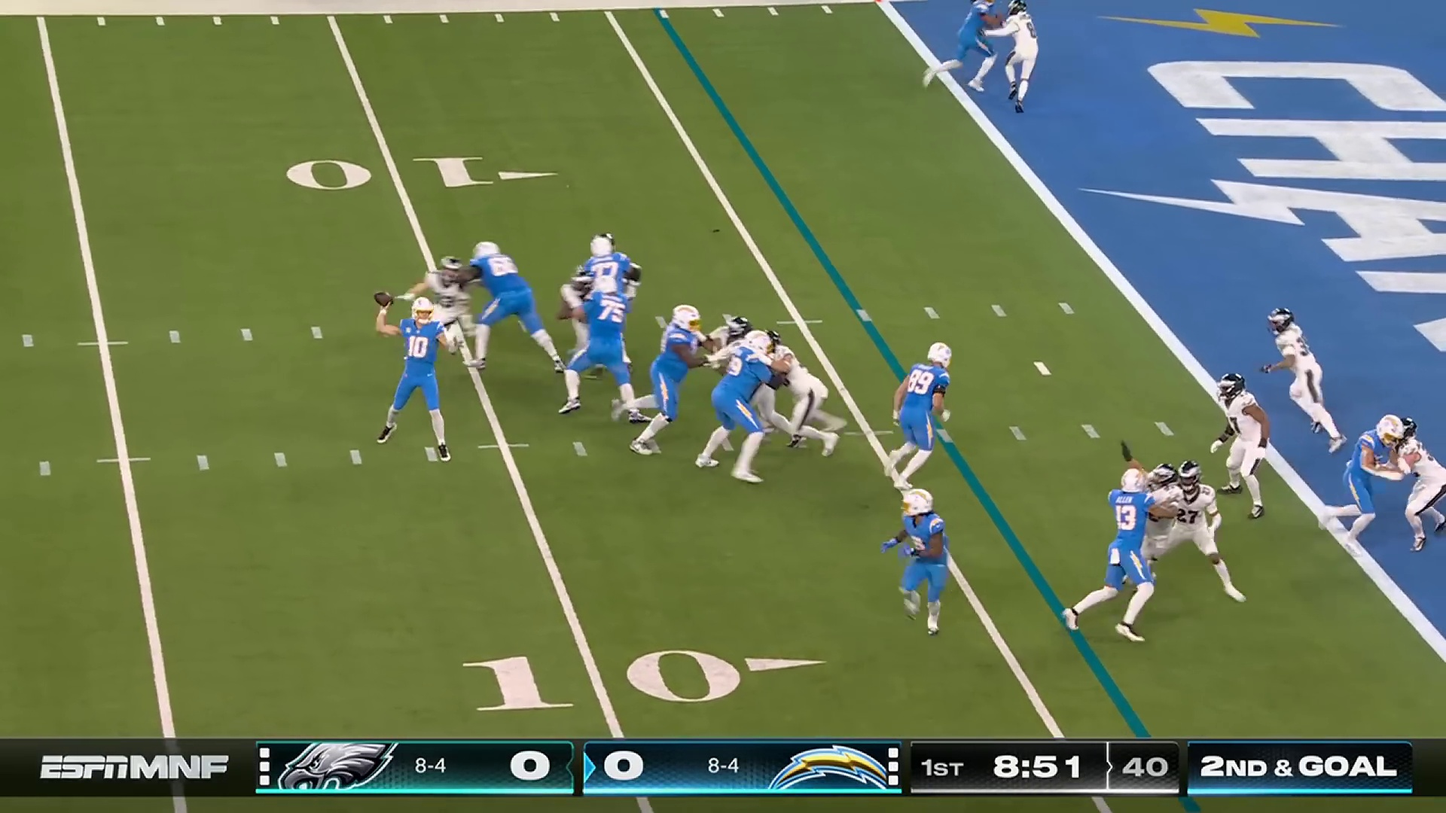ball: (374, 287, 399, 310)
player: (375, 291, 453, 462), (467, 242, 549, 374), (881, 489, 953, 632), (768, 325, 847, 453), (1214, 370, 1275, 518), (640, 305, 699, 458), (1336, 407, 1397, 548), (1096, 472, 1146, 640), (892, 339, 953, 475), (1266, 303, 1322, 443), (1168, 462, 1220, 601), (1399, 411, 1446, 556), (587, 283, 634, 401), (725, 336, 765, 472), (997, 0, 1044, 114), (940, 0, 993, 90), (1143, 467, 1178, 600), (420, 253, 459, 350), (559, 274, 586, 382), (591, 238, 632, 308), (711, 313, 756, 369)
